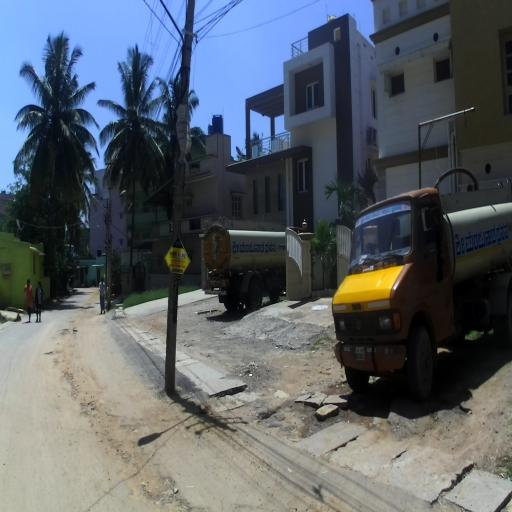street_light_0: (93, 196, 111, 223), (109, 190, 126, 212), (97, 225, 108, 241)
